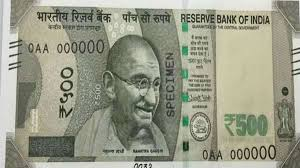fiveHundred: (24, 28, 276, 141)
